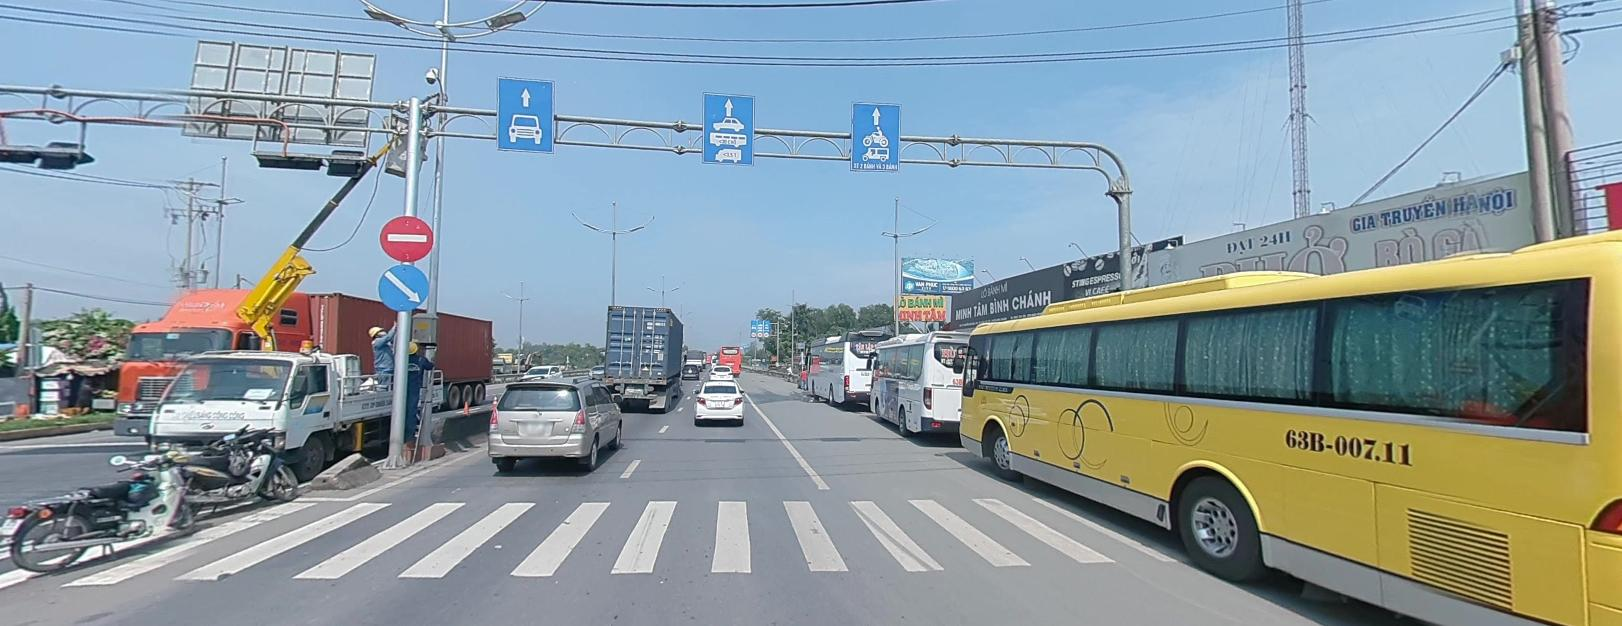Cam nguoc chieu: (379, 215, 433, 260)
Gioi han toc do: (751, 330, 756, 335), (757, 331, 761, 336), (763, 331, 768, 335)
Hieu lenh: (377, 263, 428, 309)
